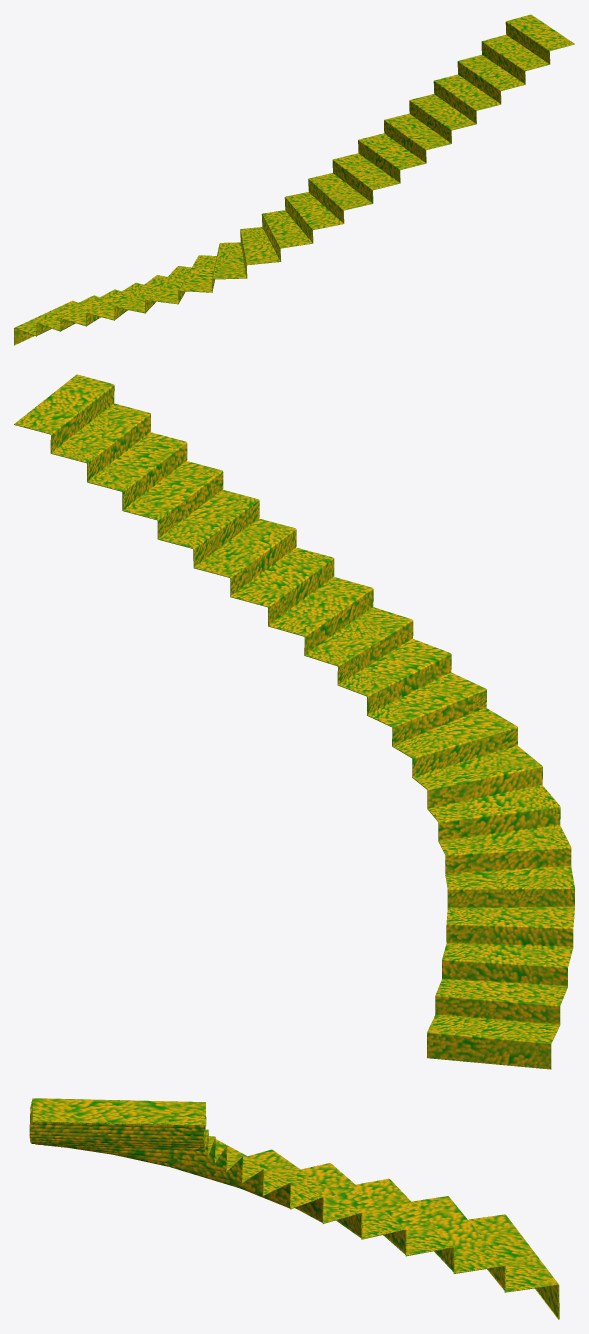
Rendered from SM_Carpet03.fbx.
The picture shows the model from 3 angles, top to bottom: view 1: azimuth 30°, elevation 25°; view 2: azimuth 150°, elevation 25°; view 3: azimuth 270°, elevation 25°; orthographic projection. The views are drawn at different scales.
Visible parts, largest first — view 1: SM_Carpet03_LOD0; view 2: SM_Carpet03_LOD0; view 3: SM_Carpet03_LOD0.
Part boxes in pixels (bbox=[...]): SM_Carpet03_LOD0: bbox=[14, 14, 574, 345]; SM_Carpet03_LOD0: bbox=[14, 374, 574, 1069]; SM_Carpet03_LOD0: bbox=[29, 1098, 559, 1319].
Bounding box in the file's own units: 524 × 272 × 317.
